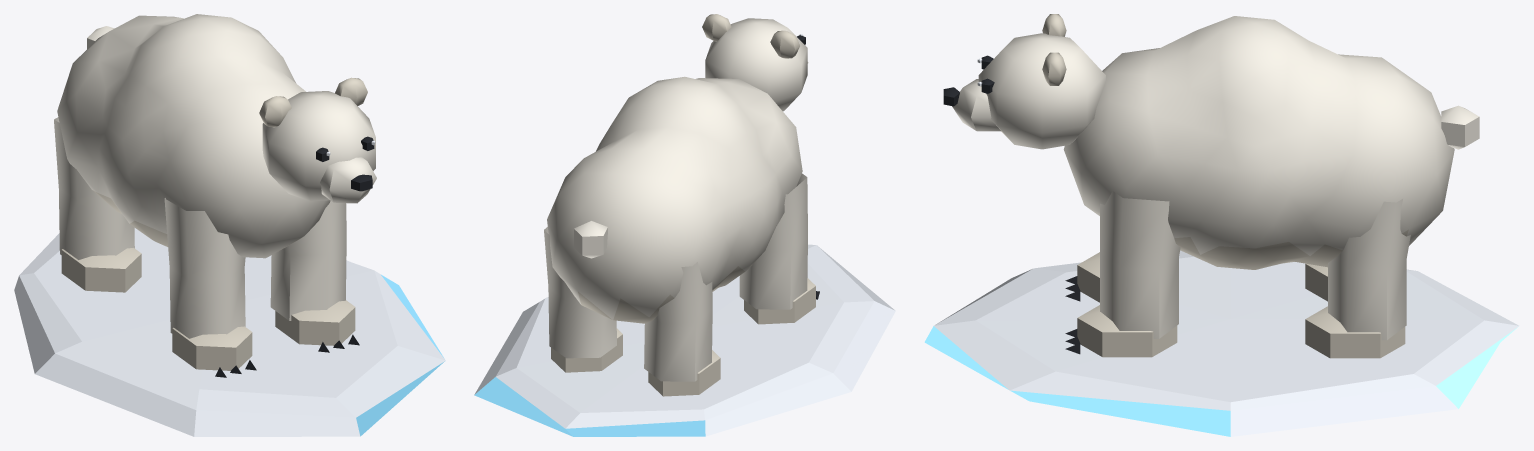
Rendered from polar_bear.glb.
The picture shows the model from 3 angles, left to right: view 1: azimuth 30°, elevation 25°; view 2: azimuth 150°, elevation 25°; view 3: azimuth 270°, elevation 25°; orthographic projection. The views are drawn at different scales.
Parts seen in each view (by area): view 1: polar_bear; view 2: polar_bear; view 3: polar_bear.
Boxes of the visible parts, x1,y1,x2,y2 form: polar_bear: (14, 14, 445, 436); polar_bear: (474, 14, 895, 436); polar_bear: (924, 14, 1518, 436).
Size of the model in its own units: 1.46 by 1.16 by 1.96.
